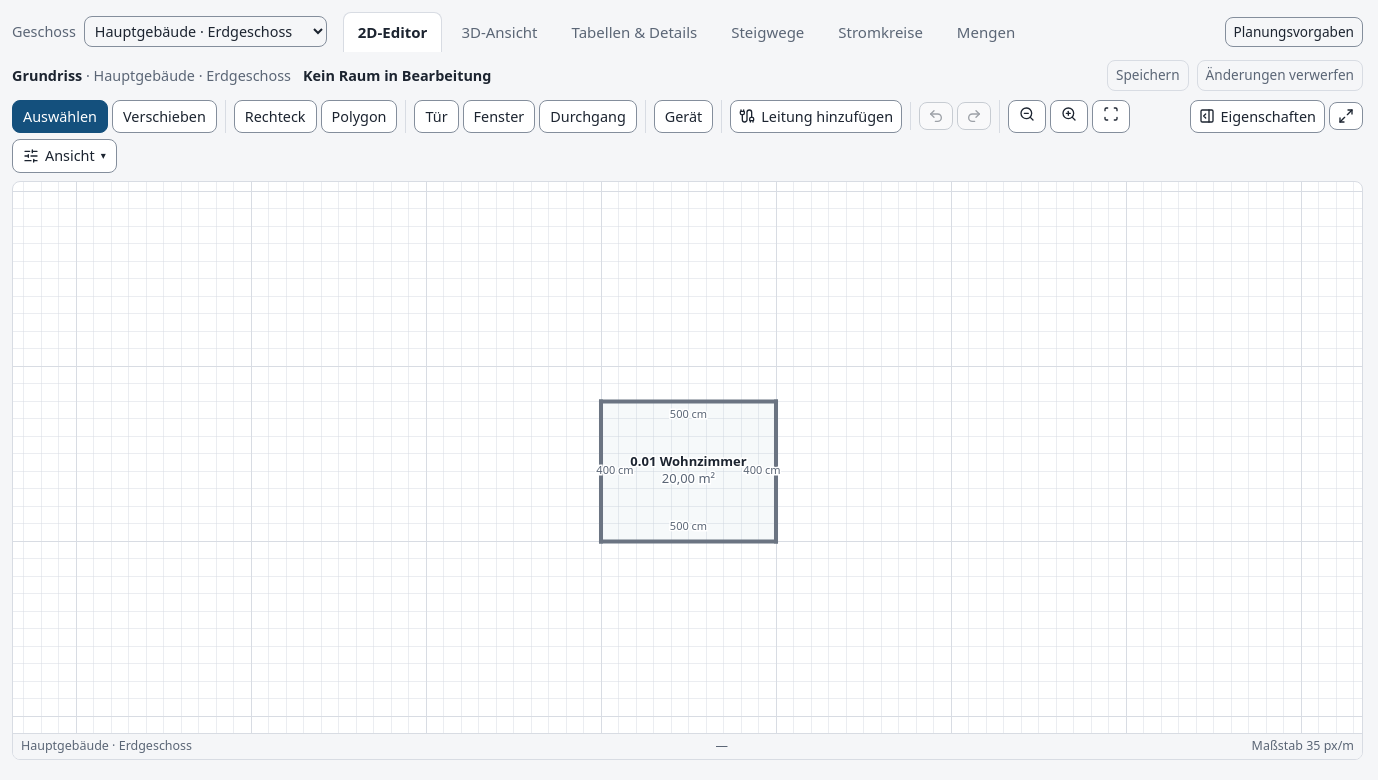
it: Grafischer Editor › wählt einen Raum aus und macht ihn bearbeitbar
Click the button "Eigenschaften". click: (1257, 116)
box: [1190,100,1325,133]
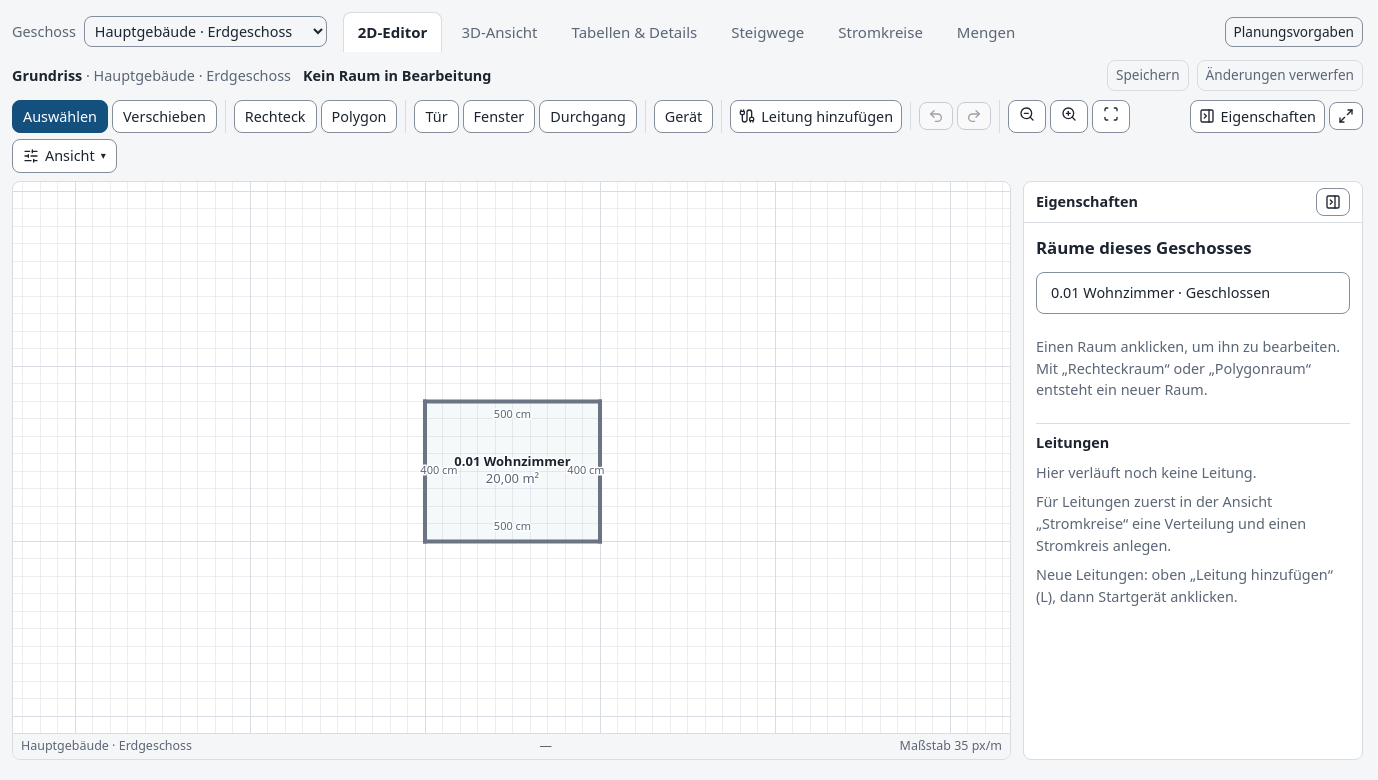
Click the button "0.01 Wohnzimmer · Geschlossen". click: (1193, 293)
box: [1036,272,1350,314]
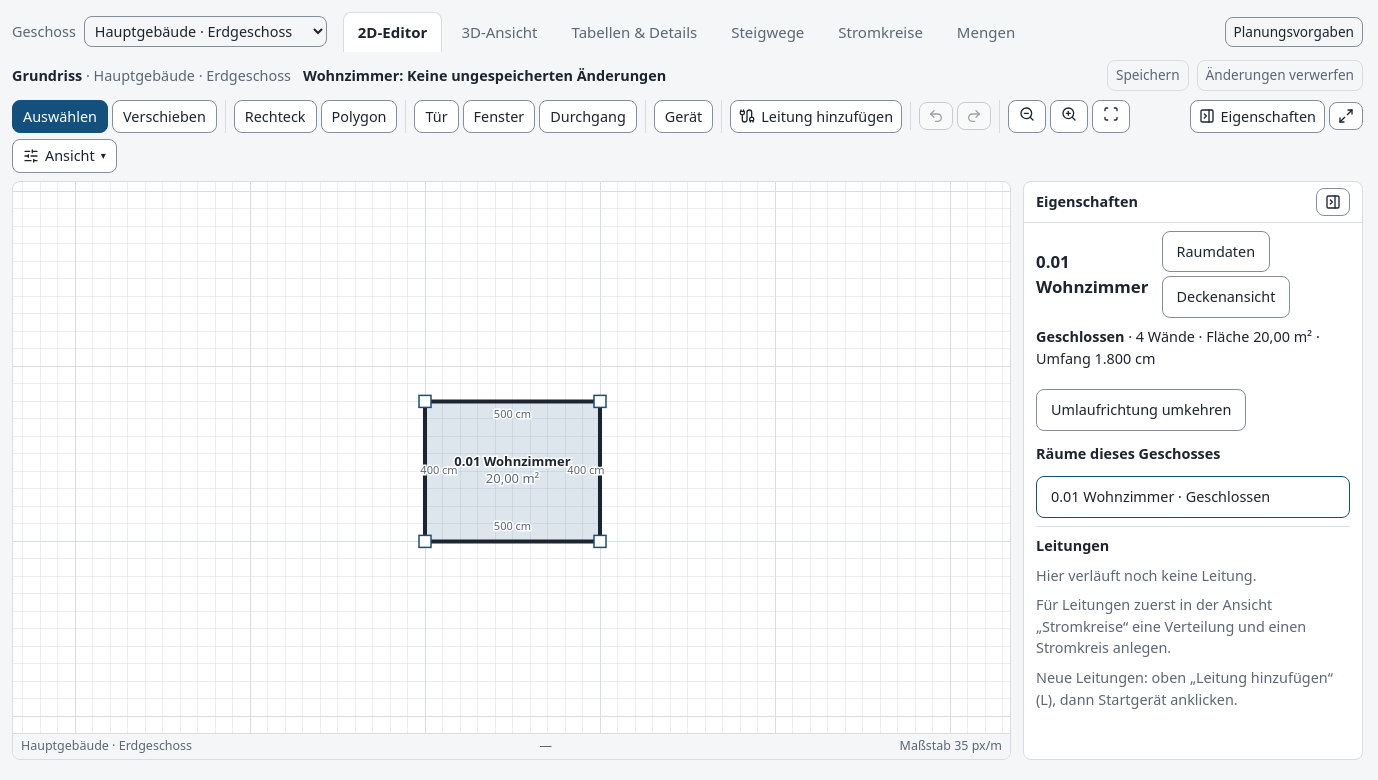
Expected: the text "Wohnzimmer: Keine ungespeicherten Änderungen" is shown, [303,65,666,86]
